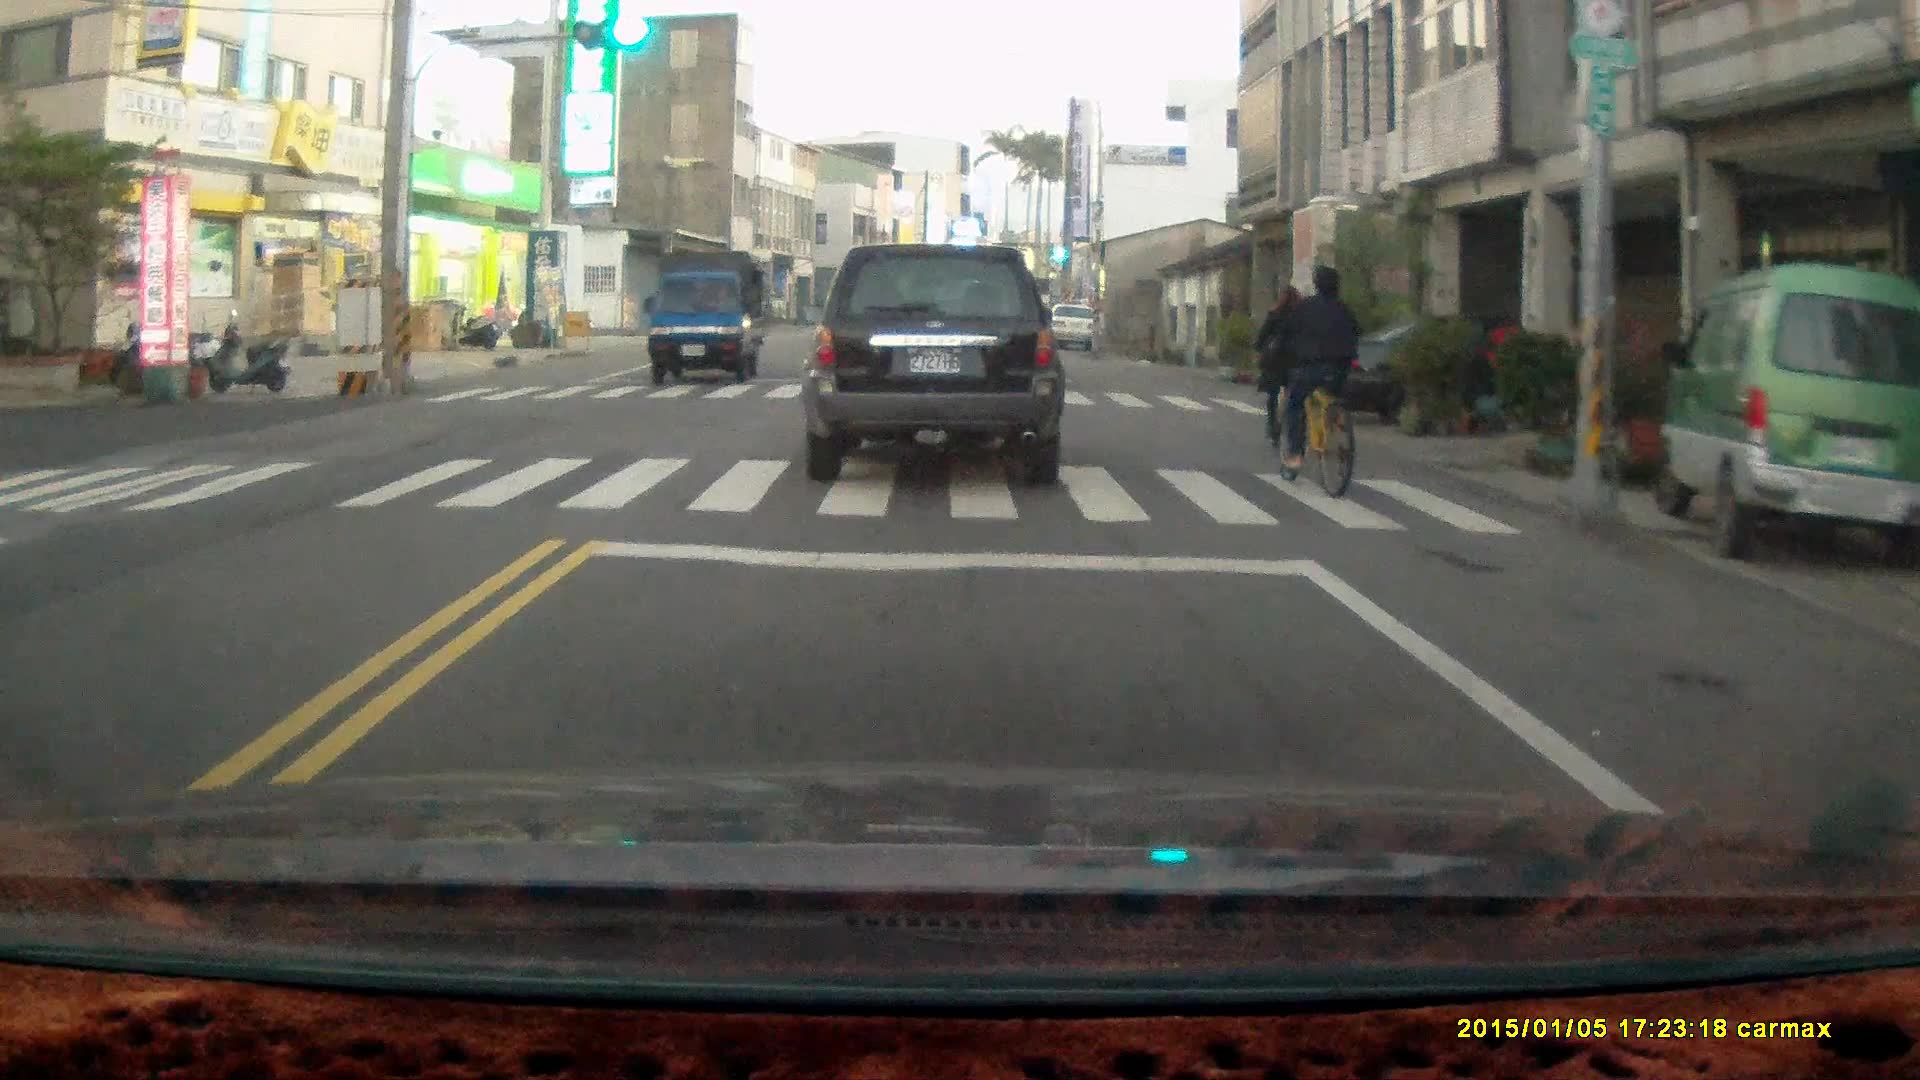rider: (1273, 257, 1367, 492), (1256, 273, 1319, 445)
vehicle: (1659, 266, 1914, 571), (801, 240, 1066, 482), (1343, 312, 1645, 432), (645, 249, 769, 386)
